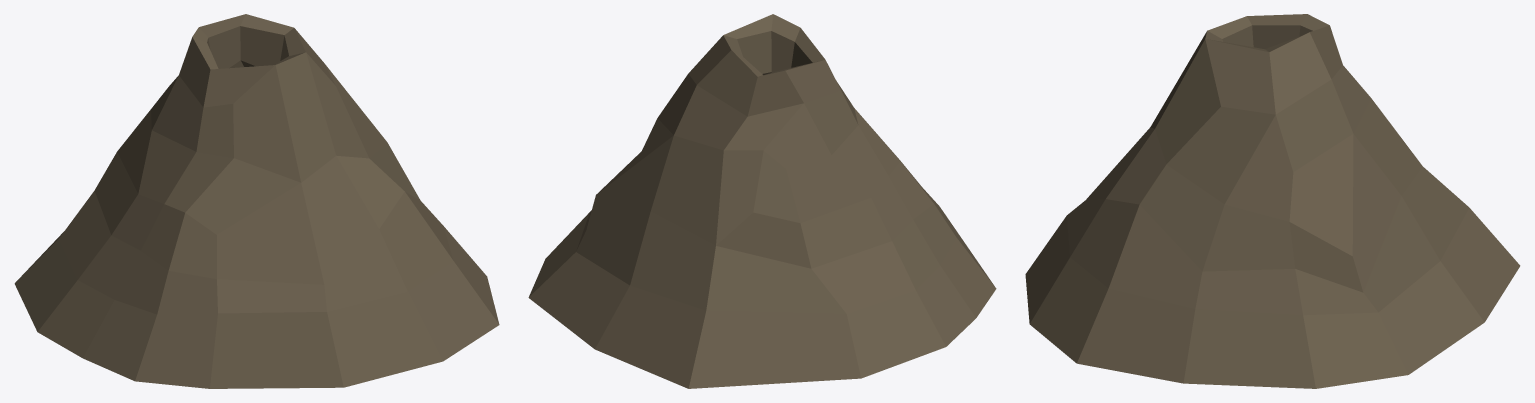
File: Volcano.fbx
3 views of the same model, side by side, from view 1: azimuth 30°, elevation 25°; view 2: azimuth 150°, elevation 25°; view 3: azimuth 270°, elevation 25° (orthographic). The views are drawn at different scales.
Parts seen in each view (by area): view 1: Volcano; view 2: Volcano; view 3: Volcano.
Part boxes in pixels (bbox=[...]): Volcano: bbox=[14, 14, 499, 388]; Volcano: bbox=[528, 14, 996, 388]; Volcano: bbox=[1025, 14, 1520, 388].
Bounding box in the file's own units: 12552 × 7706 × 13134.
